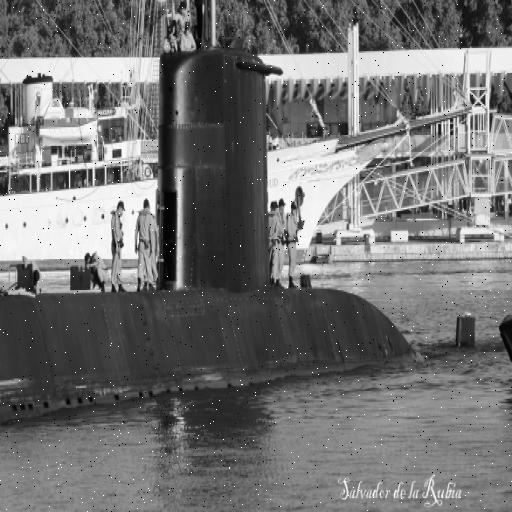submarine: (1, 51, 481, 437)
